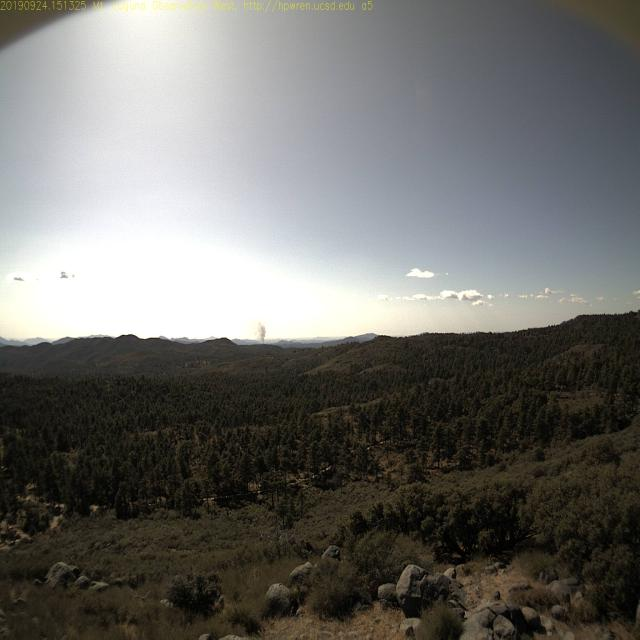smoke: (252, 317, 270, 348)
